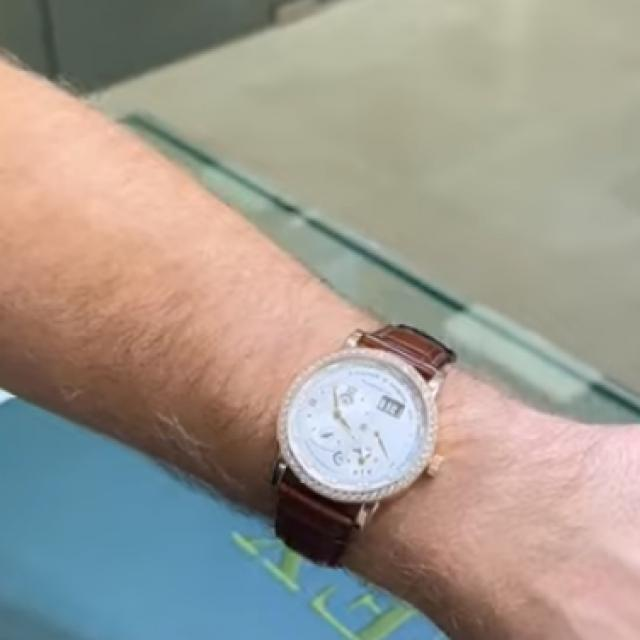Watch: (259, 319, 457, 566)
